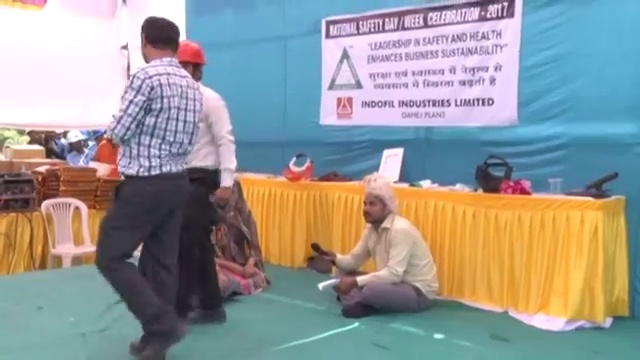helmet: (174, 41, 207, 71), (87, 161, 115, 179), (93, 128, 105, 140)
helmet_off: (132, 19, 178, 75), (353, 186, 400, 232), (209, 183, 242, 222), (27, 129, 43, 146), (65, 130, 84, 144), (44, 129, 56, 141)
helmet_on: (170, 41, 208, 84), (66, 130, 85, 154), (93, 128, 106, 147)
person: (90, 10, 201, 359), (172, 38, 240, 324), (311, 181, 438, 319), (203, 177, 269, 299), (66, 130, 95, 168), (42, 130, 62, 159)
